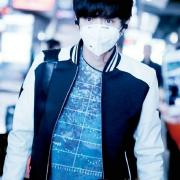face_mask: (80, 16, 122, 57)
